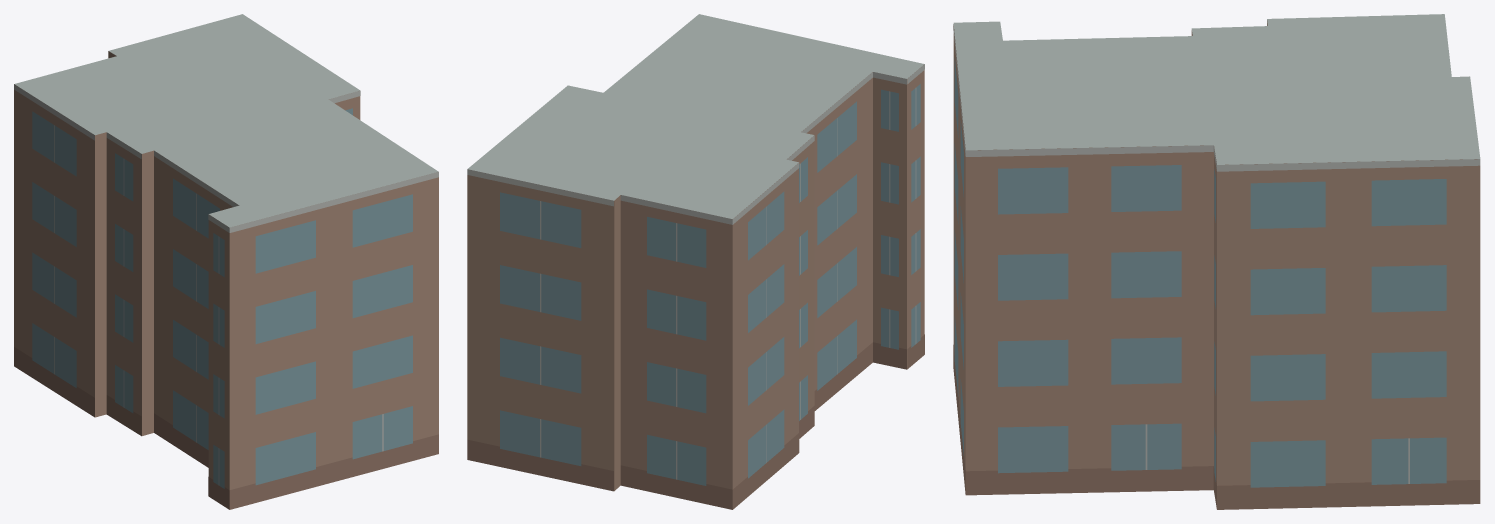
File: survey-upis-32698634.glb
3 renders of one model, left to right at view 1: azimuth 30°, elevation 25°; view 2: azimuth 150°, elevation 25°; view 3: azimuth 270°, elevation 25°, orthographic. The views are drawn at different scales.
Visible parts, largest first — view 1: survey-upis-32698634.tmp; view 2: survey-upis-32698634.tmp; view 3: survey-upis-32698634.tmp.
Part boxes in pixels (box(x1,y1,x2,y2)): survey-upis-32698634.tmp: box(14, 14, 438, 509); survey-upis-32698634.tmp: box(467, 14, 924, 509); survey-upis-32698634.tmp: box(953, 14, 1480, 509).
Bounding box in the file's own units: 11.65 × 12.4 × 17.18.
